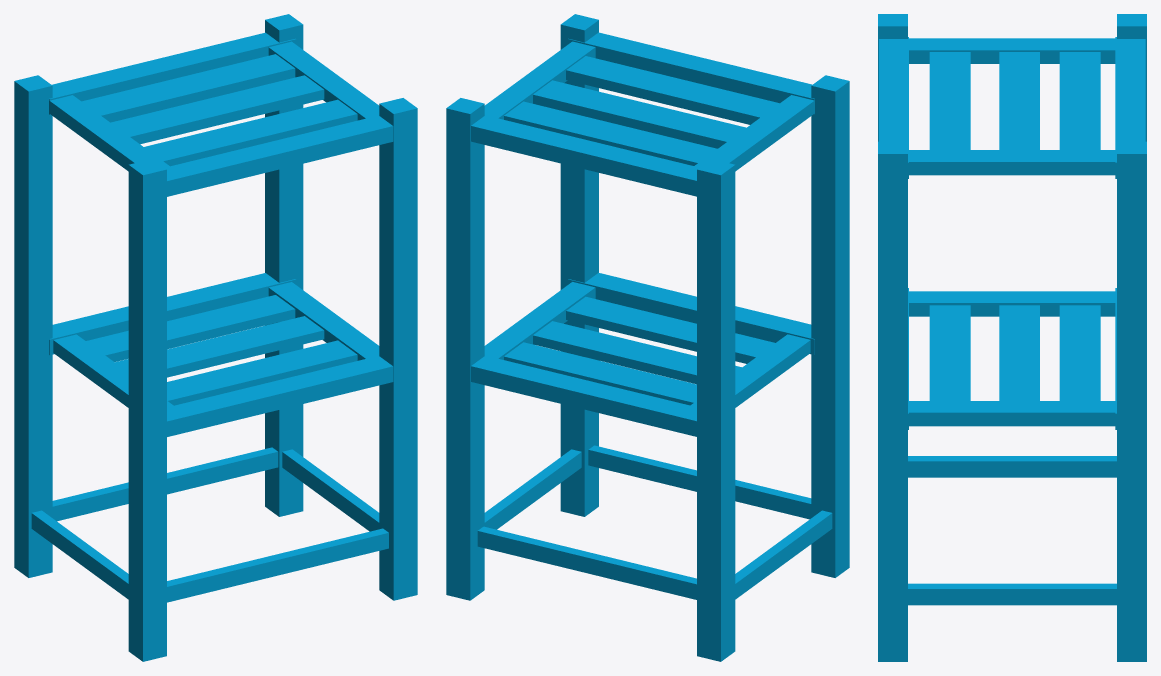
File: Cupboard_16_Lod0.fbx
3 views of the same model, side by side, from view 1: azimuth 30°, elevation 25°; view 2: azimuth 150°, elevation 25°; view 3: azimuth 270°, elevation 25° (orthographic). The views are drawn at different scales.
Visible parts, largest first — view 1: Cupboard_16_Lod0; view 2: Cupboard_16_Lod0; view 3: Cupboard_16_Lod0.
Part boxes in pixels (x1=…): Cupboard_16_Lod0: x1=14, y1=14, x2=417, y2=661; Cupboard_16_Lod0: x1=446, y1=14, x2=849, y2=661; Cupboard_16_Lod0: x1=878, y1=14, x2=1146, y2=661.
Size of the model in its own units: 62.95 by 107 by 51.14.
